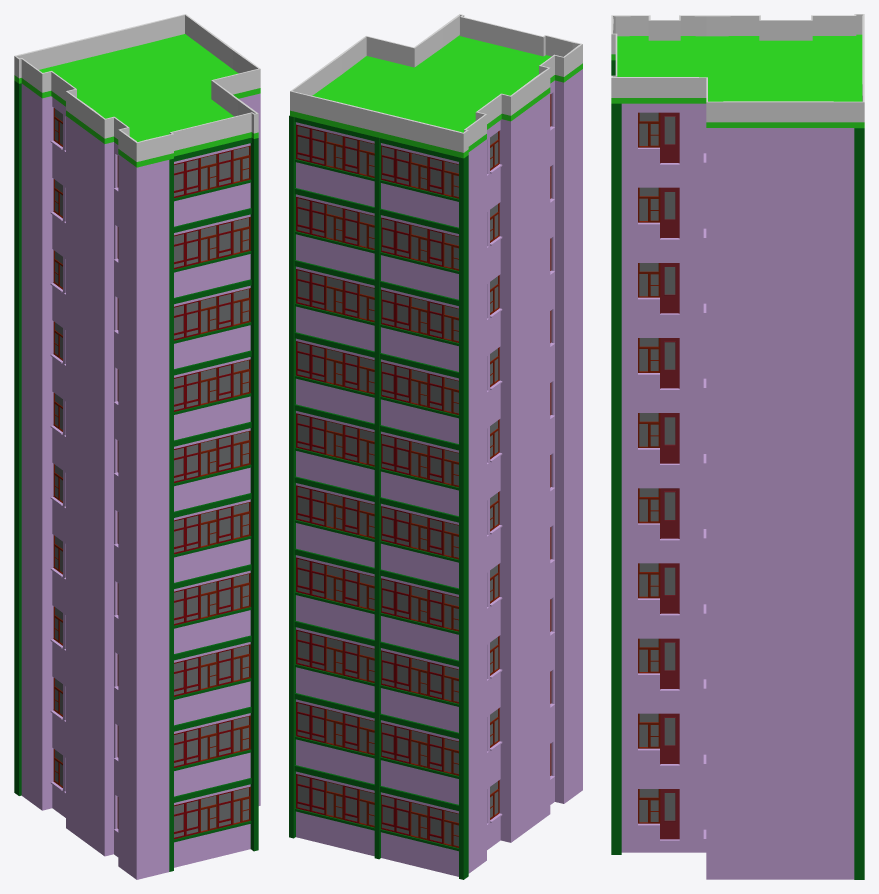
The model's file is SM_Building_2.fbx.
The picture shows the model from 3 angles, left to right: view 1: azimuth 30°, elevation 25°; view 2: azimuth 150°, elevation 25°; view 3: azimuth 270°, elevation 25°; orthographic projection. The views are drawn at different scales.
Parts seen in each view (by area): view 1: Plane.015; view 2: Plane.015; view 3: Plane.015.
Boxes of the visible parts, box(x1,y1,x2,y2) form: Plane.015: box(14, 14, 260, 879); Plane.015: box(289, 14, 582, 879); Plane.015: box(611, 14, 864, 879).
Bounding box in the file's own units: 953 × 3888 × 1149.
